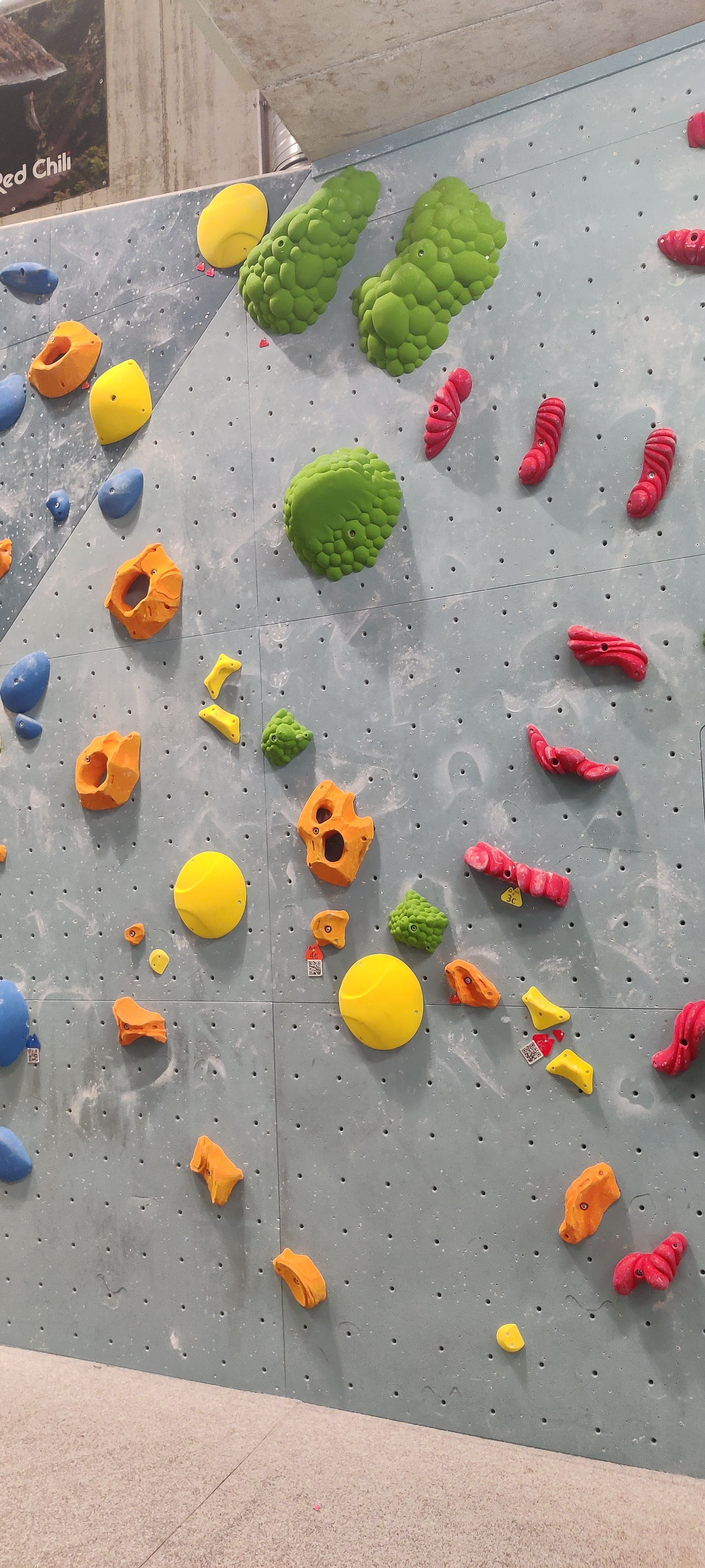hold: (353, 178, 506, 376), (239, 168, 380, 334), (284, 448, 401, 581), (339, 954, 424, 1050), (298, 780, 374, 887), (105, 544, 183, 640), (464, 842, 570, 907), (174, 852, 247, 938), (197, 183, 268, 269), (28, 321, 102, 398), (89, 360, 152, 445), (528, 724, 618, 782), (76, 731, 141, 811), (559, 1162, 620, 1244), (613, 1232, 687, 1295), (626, 428, 676, 518), (568, 626, 647, 681), (424, 369, 472, 458), (519, 397, 566, 484), (652, 1000, 705, 1075), (389, 890, 448, 954), (191, 1136, 243, 1205), (273, 1248, 327, 1308), (261, 709, 313, 766), (0, 652, 49, 712), (445, 960, 500, 1009), (113, 997, 166, 1046), (0, 979, 29, 1067), (0, 261, 58, 303), (98, 468, 143, 520), (522, 986, 570, 1031), (546, 1049, 593, 1094), (658, 228, 705, 267), (0, 1126, 32, 1182), (204, 654, 241, 699), (199, 704, 240, 744), (0, 374, 26, 433), (311, 909, 349, 949), (497, 1323, 524, 1352), (47, 490, 70, 523), (15, 714, 42, 739), (687, 111, 705, 147), (149, 949, 170, 975), (0, 537, 12, 579), (125, 923, 146, 946), (0, 843, 7, 864)
